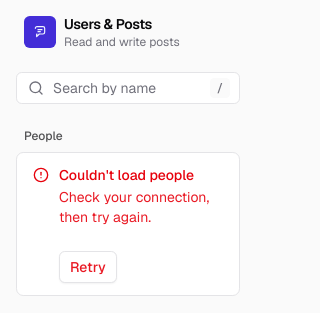
Scenario: error states › shows an alert when the users fail to load, and retry recovers
Expected: the message shows "Couldn't load people", [59,166,194,184]
Click the button "Retry".
click(88, 267)  # box [59,251,117,283]
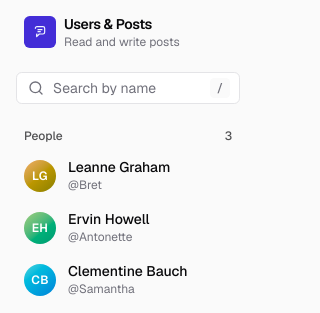
Result: the link "LG Leanne Graham @Bret" is shown at [24,158,170,193]
Result: the message "Couldn't load people Check your connection, then try again. Retry" is gone
